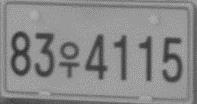1: (112, 33, 127, 82), (138, 35, 153, 82)
3: (33, 31, 54, 77)
4: (84, 32, 108, 81)
5: (161, 36, 183, 84)
8: (10, 30, 31, 77)
우: (58, 40, 81, 79)
